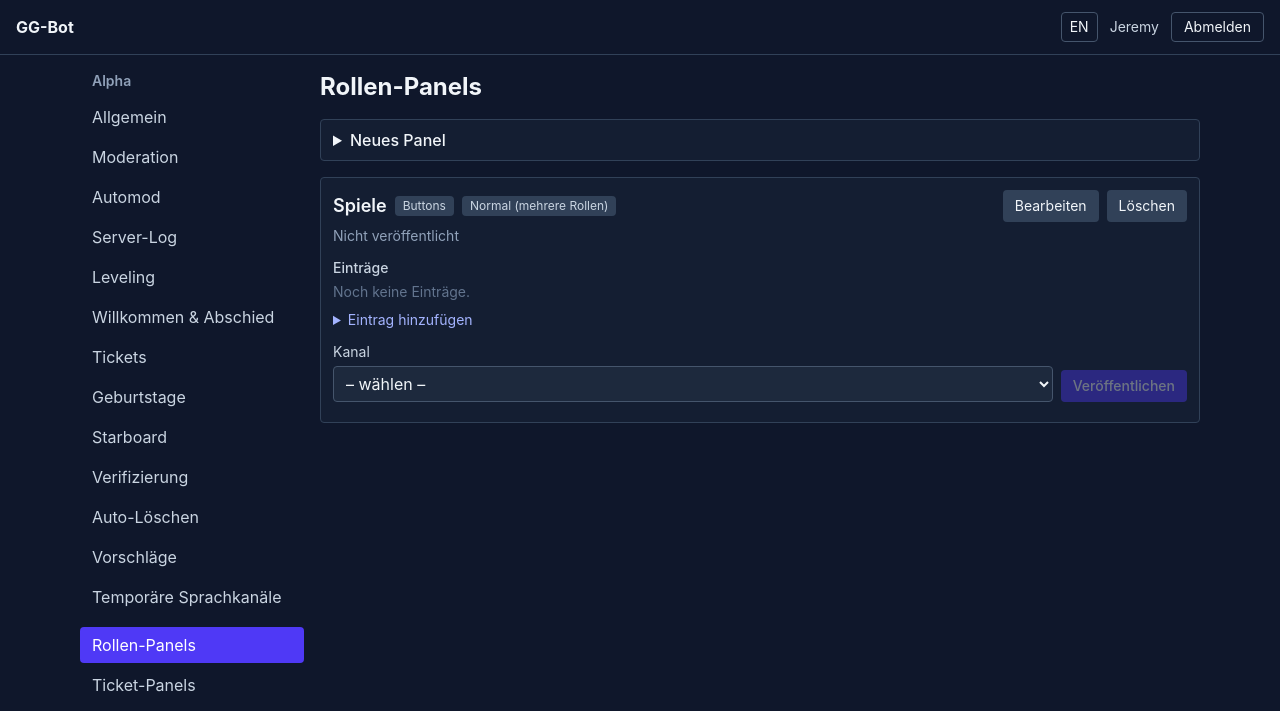
Test case: Rollen-Panels › bearbeiten ändert Titel und Modus
Click the button "Bearbeiten". click: (1051, 206)
box: top-left (1003, 190), bottom-right (1099, 222)
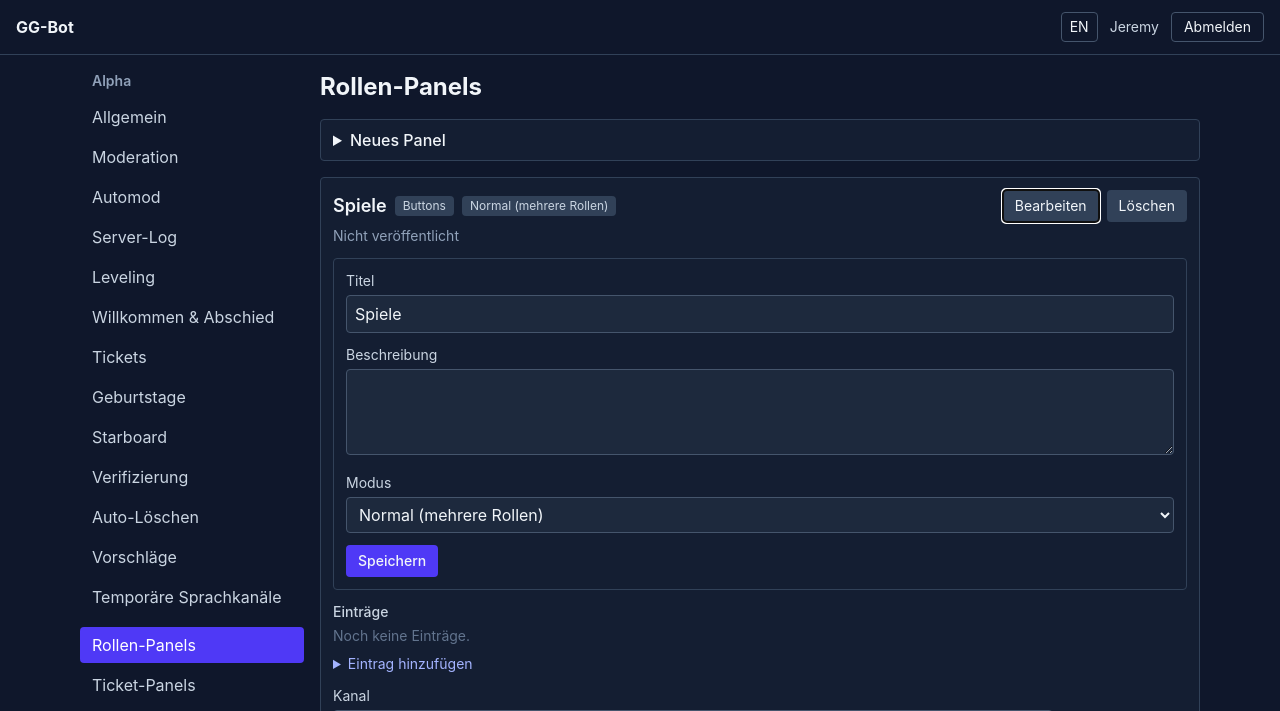
Replace the text in the field showing "Spiele" with "Hobbys". click: (760, 314)
box: top-left (346, 295), bottom-right (1174, 333)
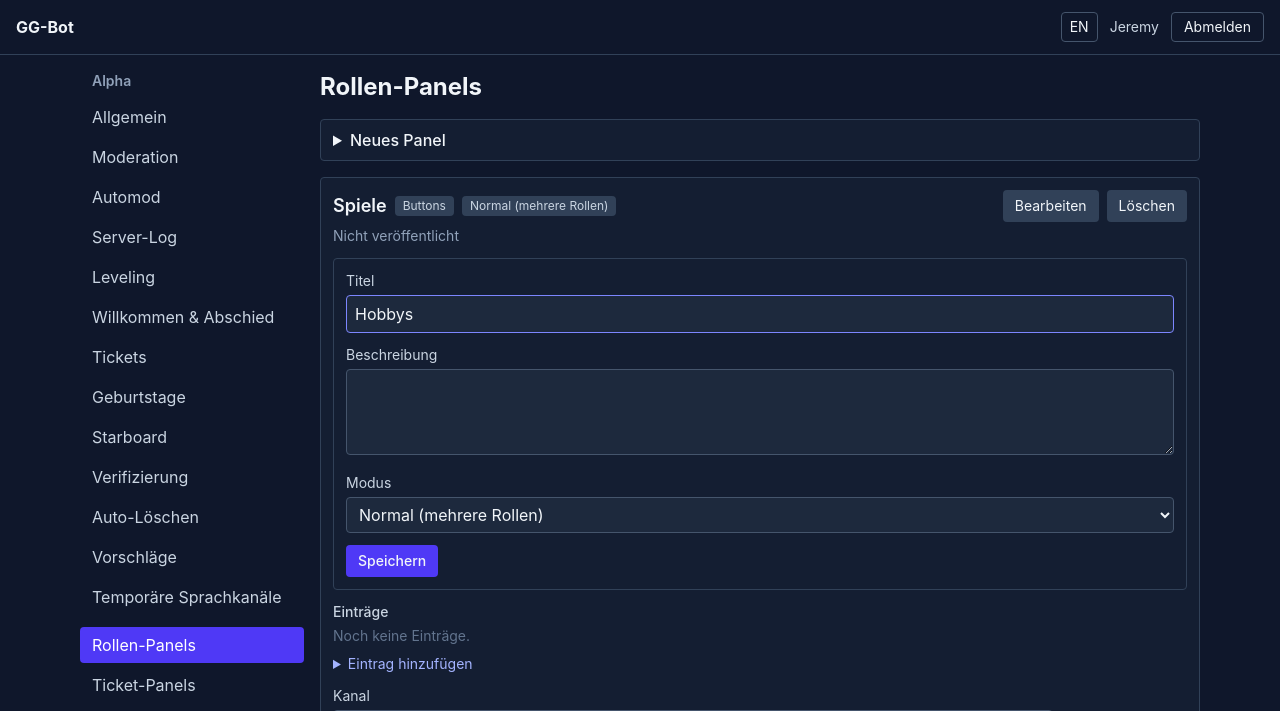
Select "Eine Rolle gleichzeitig" in the dropdown labelled "Modus". click: (760, 515)
box: top-left (346, 497), bottom-right (1174, 533)
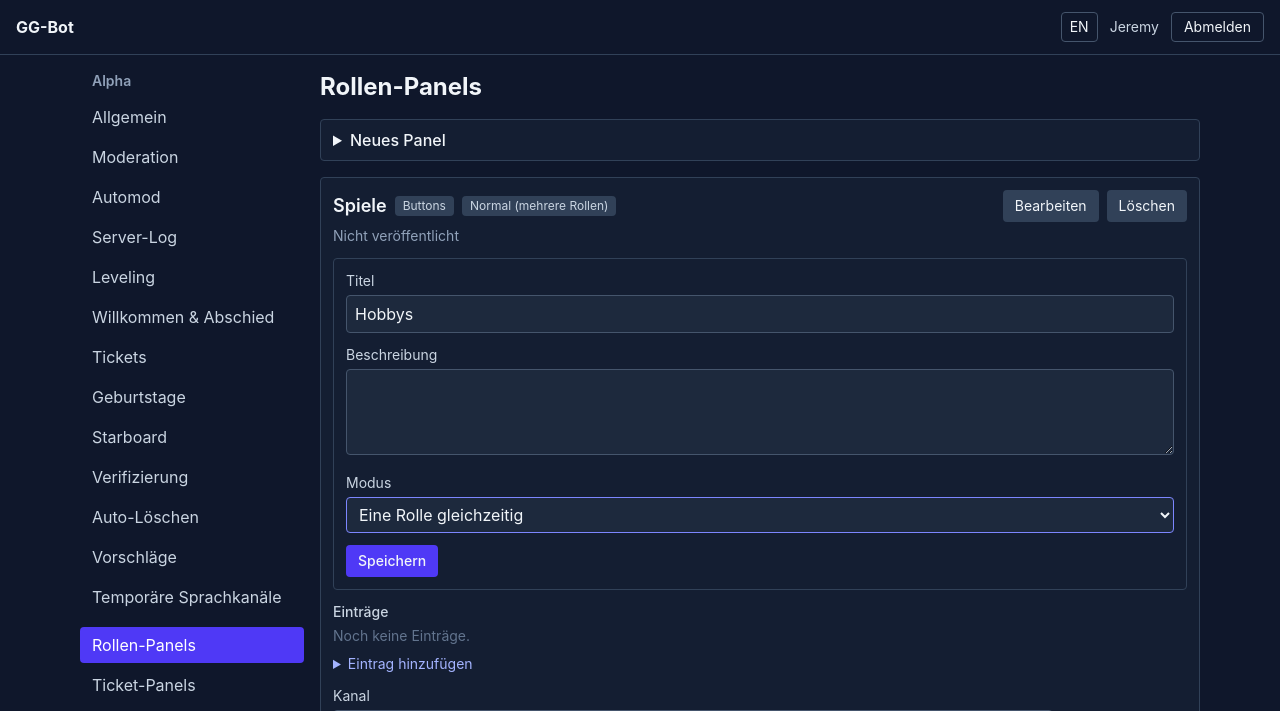
Click the button "Speichern". click: (392, 561)
box: top-left (346, 545), bottom-right (438, 577)
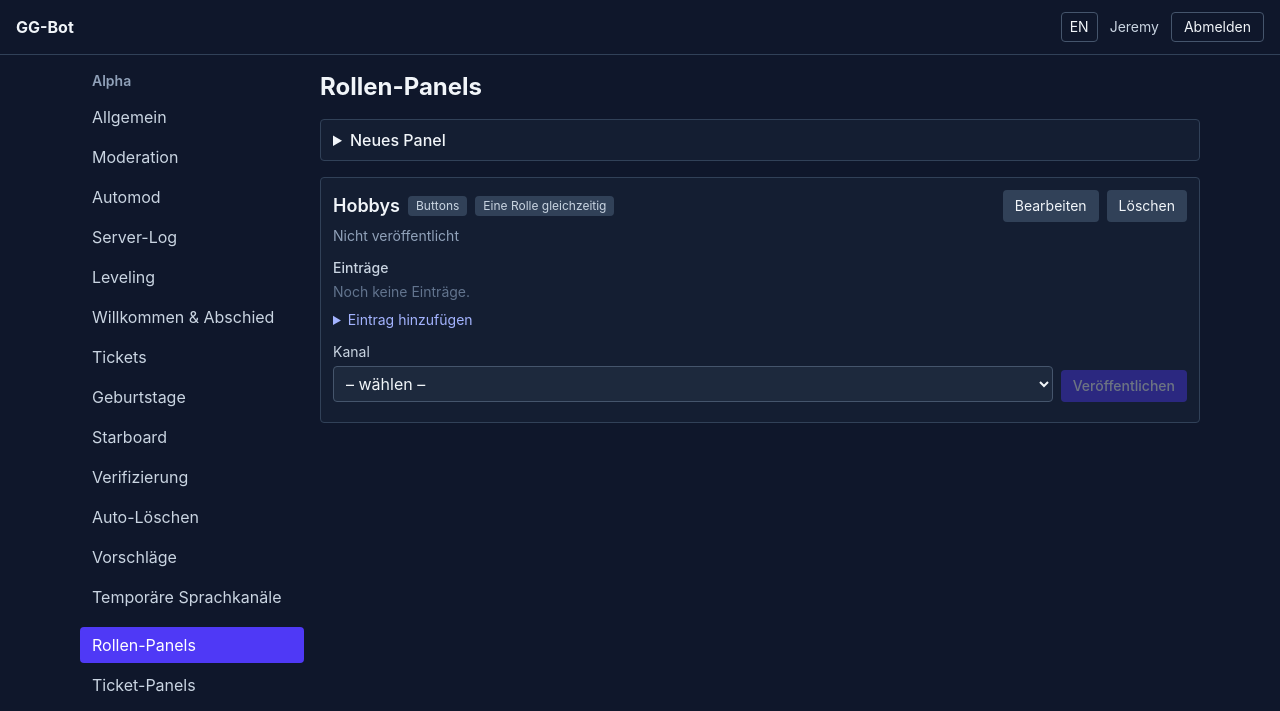
Expected: the element "Hobbys" is shown, top-left (320, 177), bottom-right (1200, 423)
